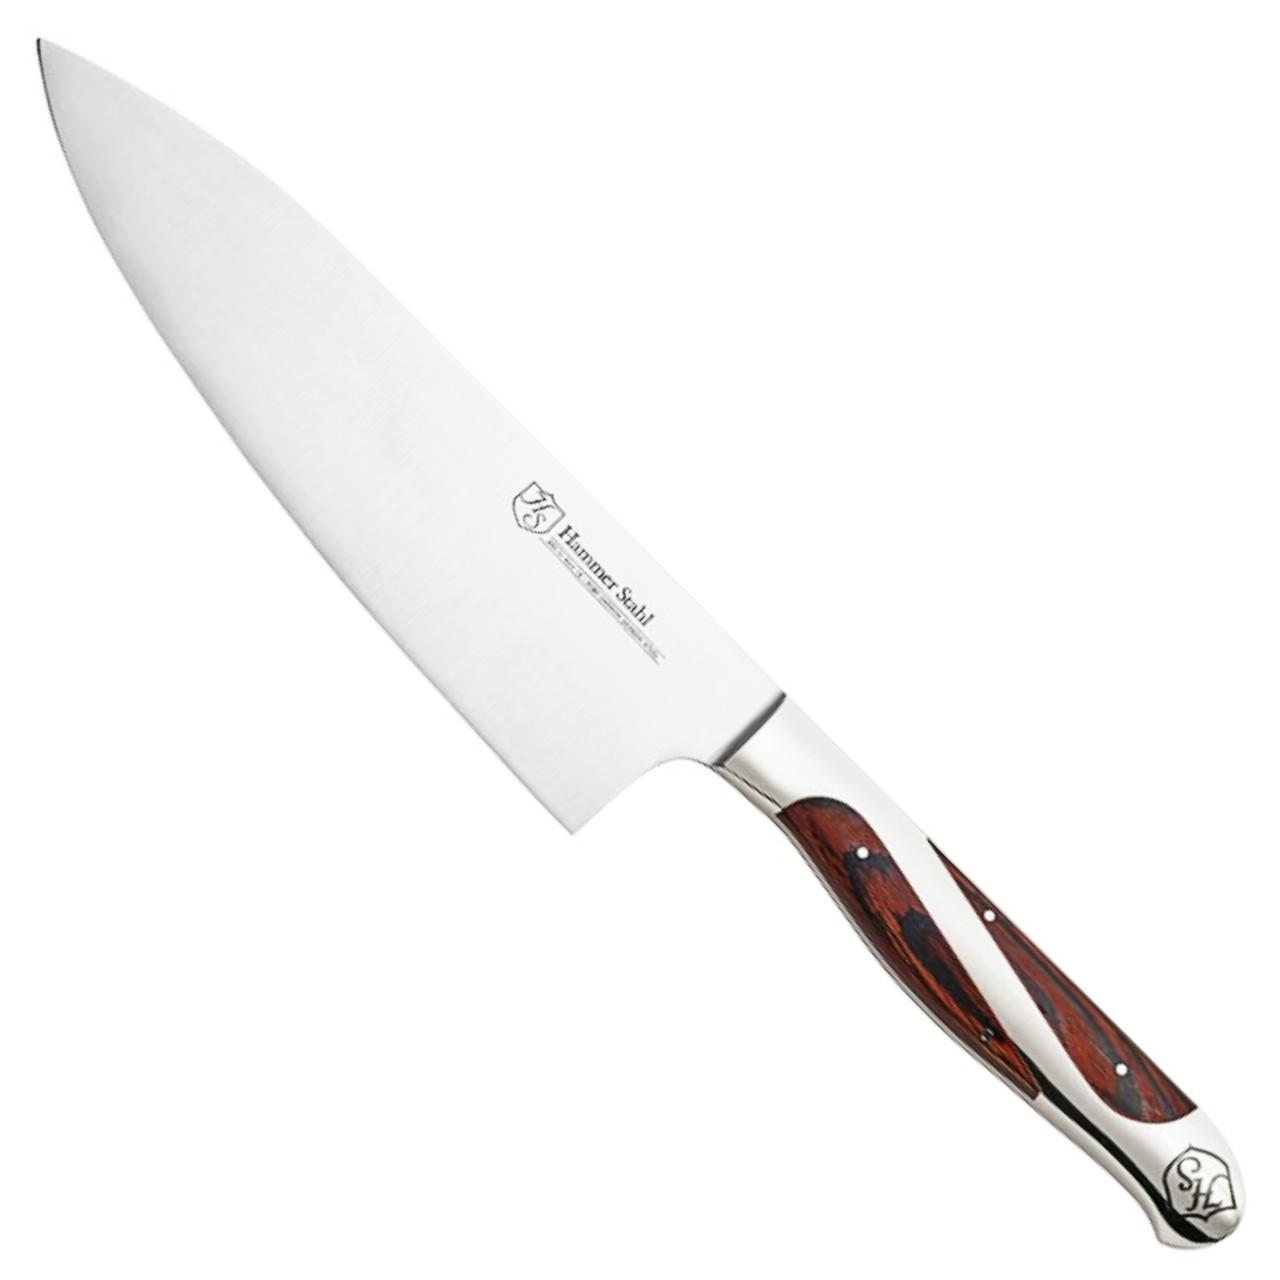Knife: (34, 35, 1245, 1250)
